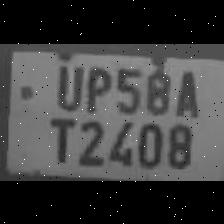0: (134, 116, 162, 168)
2: (74, 115, 104, 165)
4: (104, 116, 134, 166)
5: (110, 61, 142, 111)
8: (142, 63, 172, 113), (164, 118, 194, 168)
A: (170, 66, 202, 116)
P: (80, 62, 111, 113)
T: (44, 112, 74, 162)
U: (50, 58, 82, 110)
